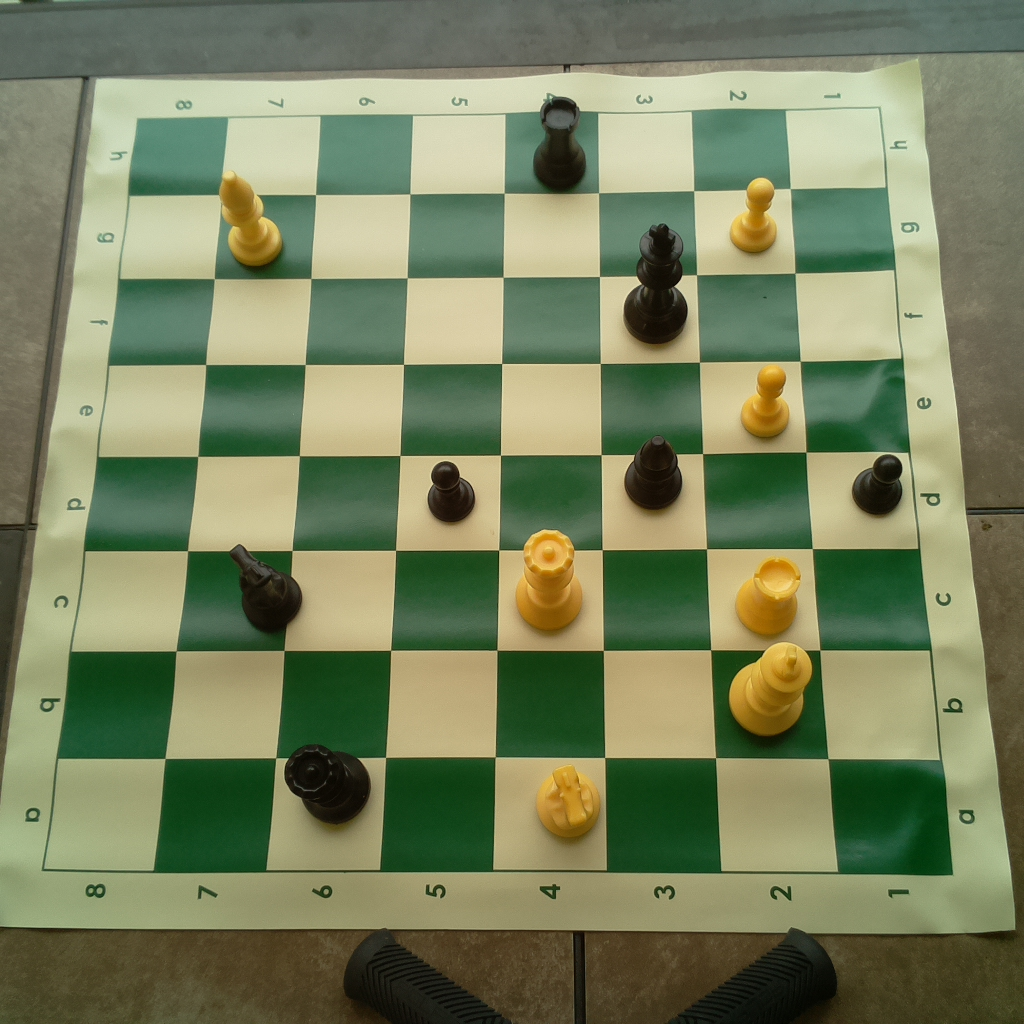black_bishop: (620, 432, 689, 514)
black_king: (620, 218, 689, 345)
black_knight: (221, 531, 310, 635)
black_pawn: (424, 453, 479, 527), (854, 445, 907, 515)
black_queen: (280, 736, 376, 826)
black_rook: (528, 92, 593, 191)
file_a: (40, 758, 955, 873)
file_b: (59, 652, 944, 761)
file_c: (71, 549, 933, 653)
file_d: (86, 452, 920, 551)
file_e: (97, 360, 910, 453)
file_f: (112, 270, 903, 361)
file_g: (116, 187, 897, 271)
file_h: (128, 109, 885, 188)
outline: (37, 106, 954, 875)
rank_1: (785, 105, 954, 875)
rank_2: (692, 108, 837, 871)
rank_3: (598, 113, 724, 871)
rank_4: (489, 112, 611, 870)
rank_5: (380, 113, 506, 869)
rank_6: (266, 115, 414, 869)
rank_7: (155, 115, 321, 873)
rank_8: (783, 108, 954, 875)
white_bishop: (215, 161, 290, 273)
white_king: (723, 634, 816, 741)
white_knight: (533, 761, 607, 844)
white_pawn: (728, 174, 781, 257), (738, 364, 794, 439)
white_queen: (512, 526, 588, 638)
white_rook: (733, 552, 803, 639)
